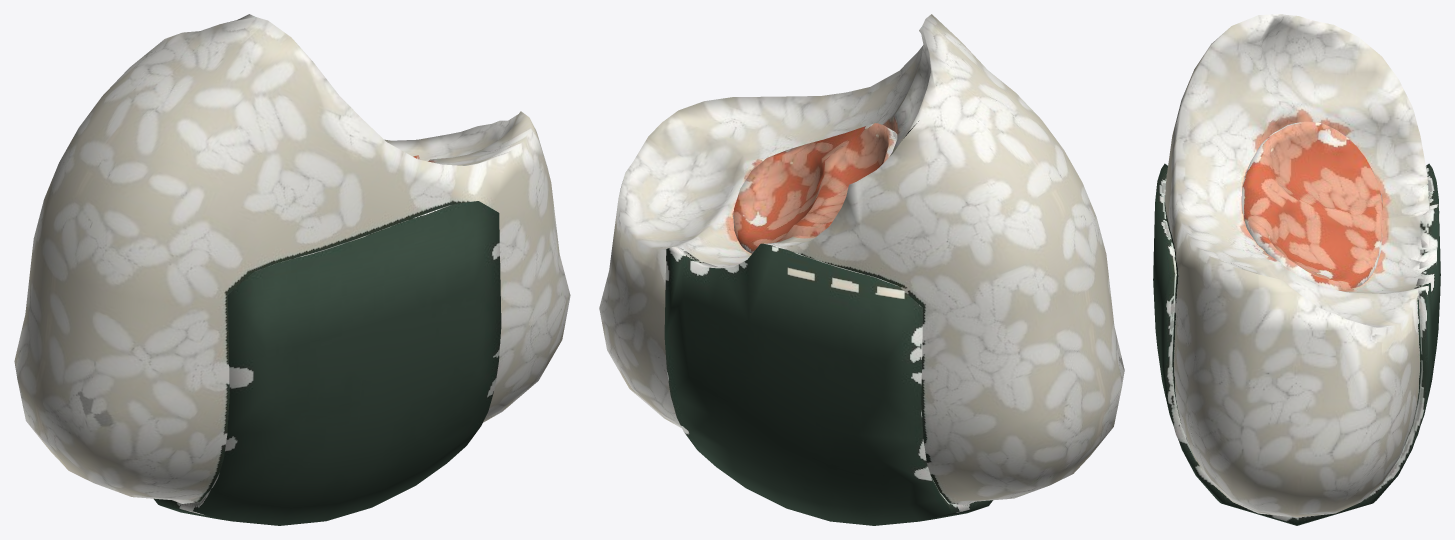
Rendered from onigiri_salmon_b1.glb.
3 views of the same model, side by side, from view 1: azimuth 30°, elevation 25°; view 2: azimuth 150°, elevation 25°; view 3: azimuth 270°, elevation 25° (orthographic). The views are drawn at different scales.
Visible parts, largest first — view 1: prop_onigiri_salmon_b1_felt; view 2: prop_onigiri_salmon_b1_felt; view 3: prop_onigiri_salmon_b1_felt.
Part boxes in pixels (bbox=[...]): prop_onigiri_salmon_b1_felt: bbox=[14, 14, 570, 525]; prop_onigiri_salmon_b1_felt: bbox=[599, 14, 1124, 525]; prop_onigiri_salmon_b1_felt: bbox=[1153, 14, 1440, 525].
Bounding box in the file's own units: 0.1259 × 0.121 × 0.0677.
1 material, 1 textured.
